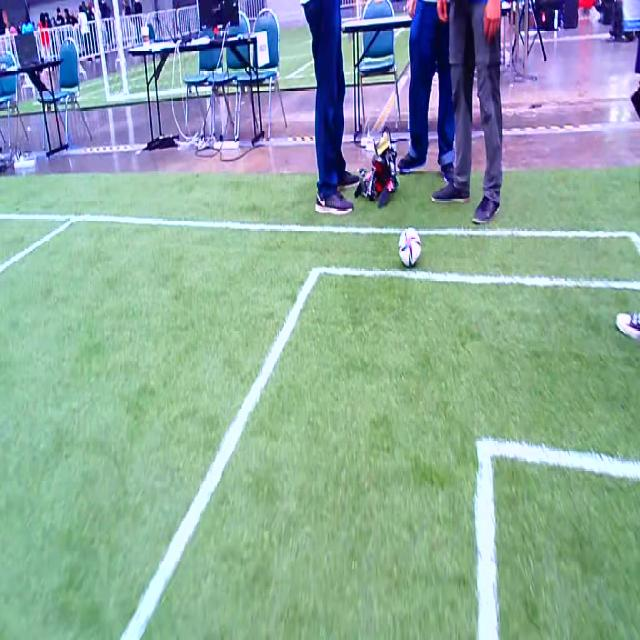ball: (398, 227, 421, 266)
